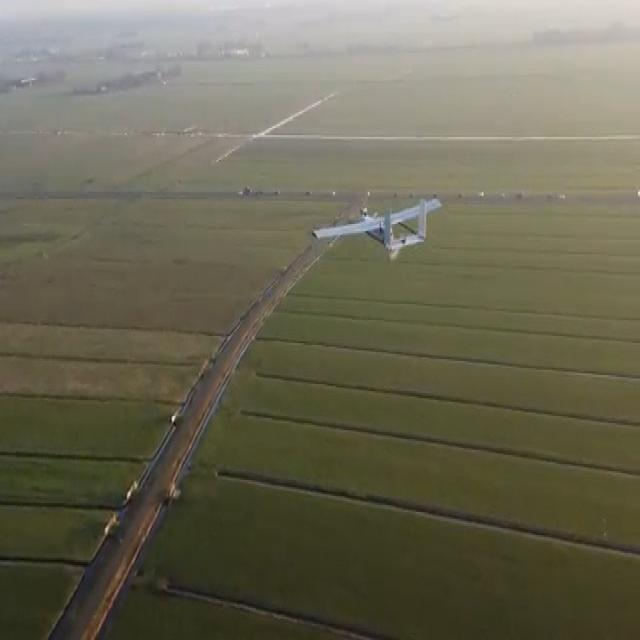drones: (310, 185, 449, 280)
